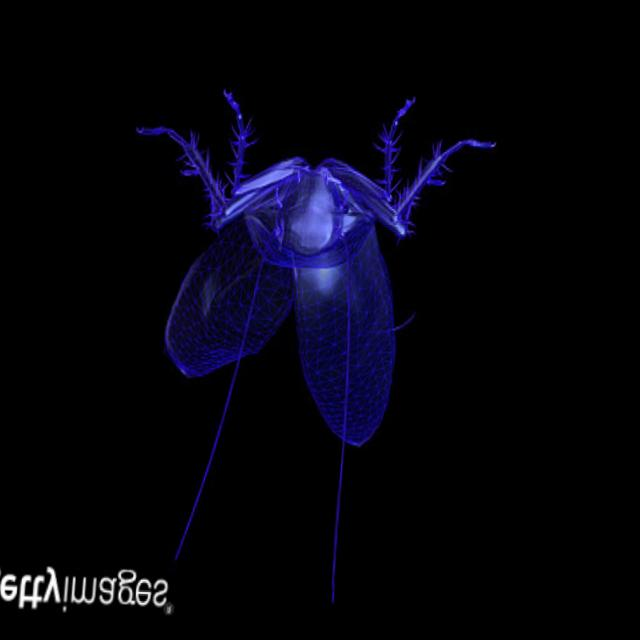Cockroach: (105, 69, 510, 568)
